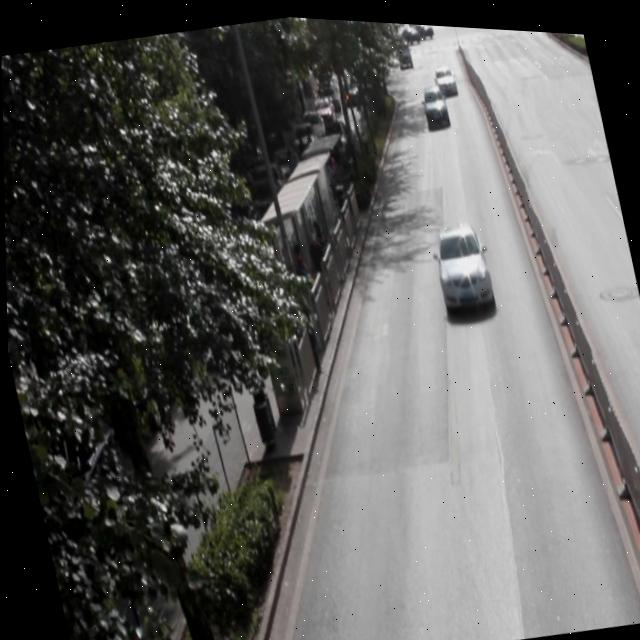car: (427, 212, 494, 314), (419, 79, 449, 127)
